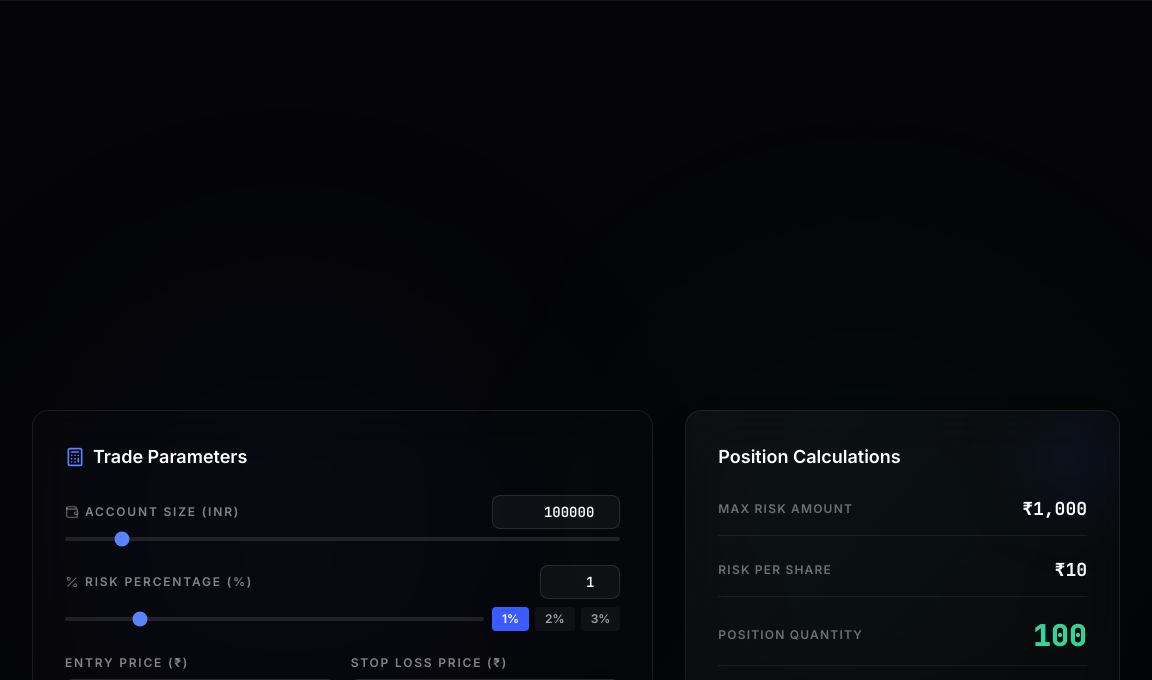
Scenario: RiskCalculator Component › updates calculations dynamically when inputs change
Replace the text in the number field labelled "Account Size (INR)" with "200000". click: [556, 512]
box: [492,495,620,529]
(page scrolled)
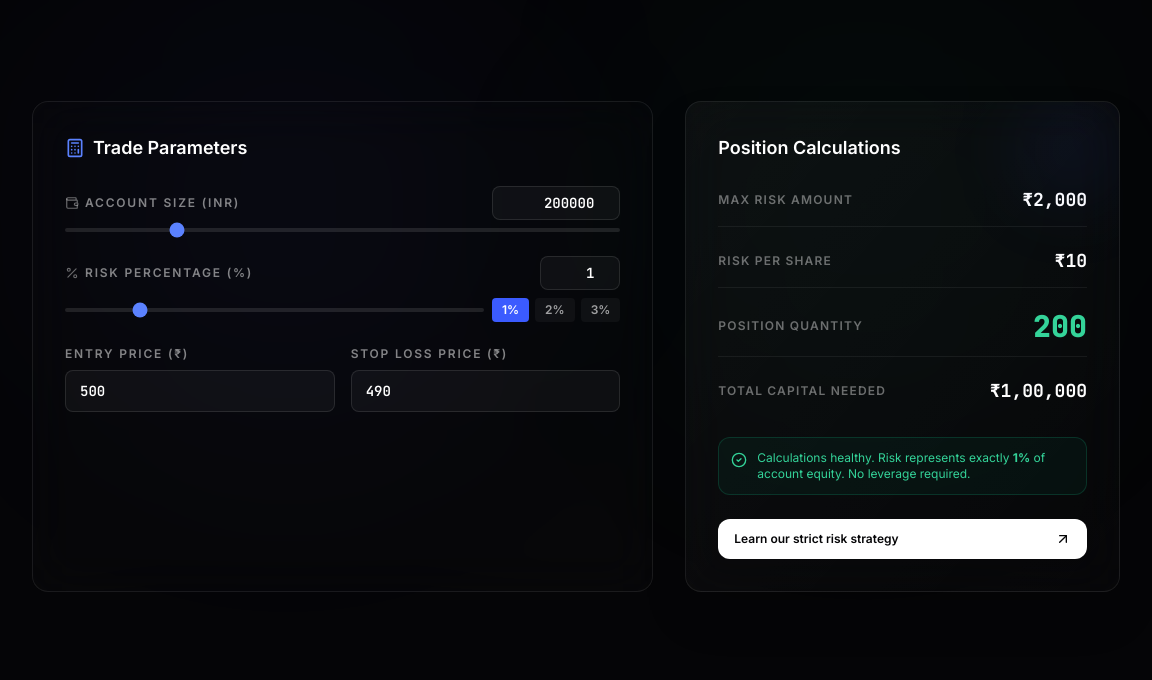
Replace the text in the number field labelled "Entry Price (₹)" with "1000". click: [200, 391]
box: [65,370,335,412]
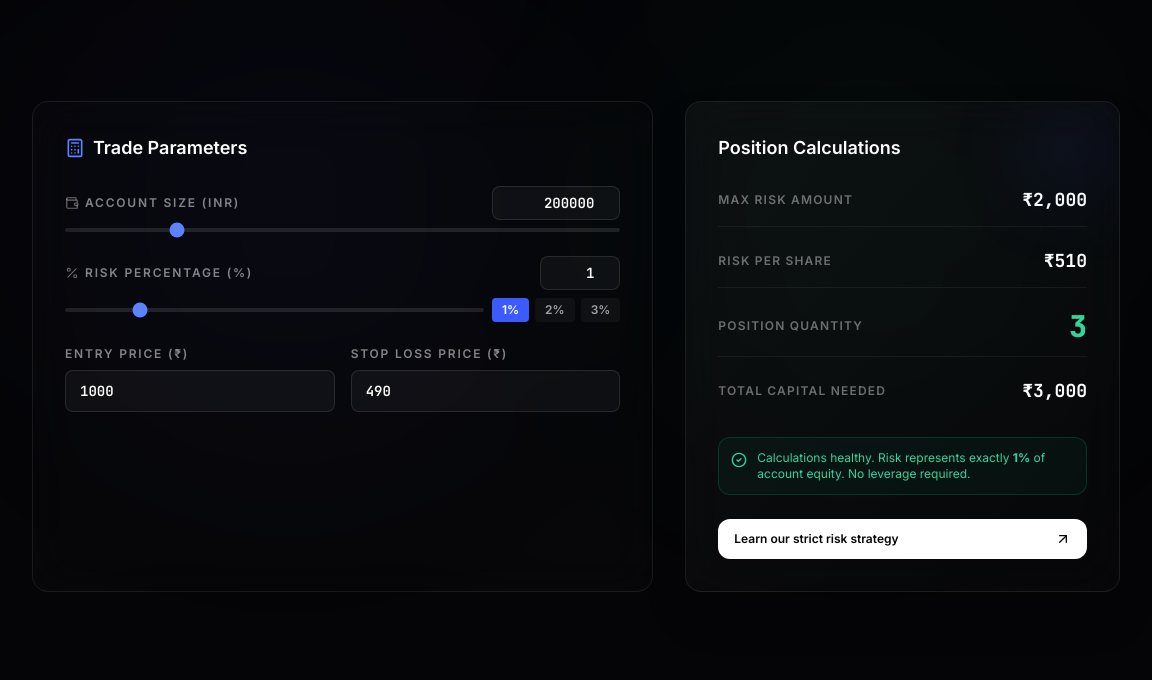
Replace the text in the number field labelled "Stop Loss Price (₹)" with "950". click: [486, 391]
box: [351,370,620,412]
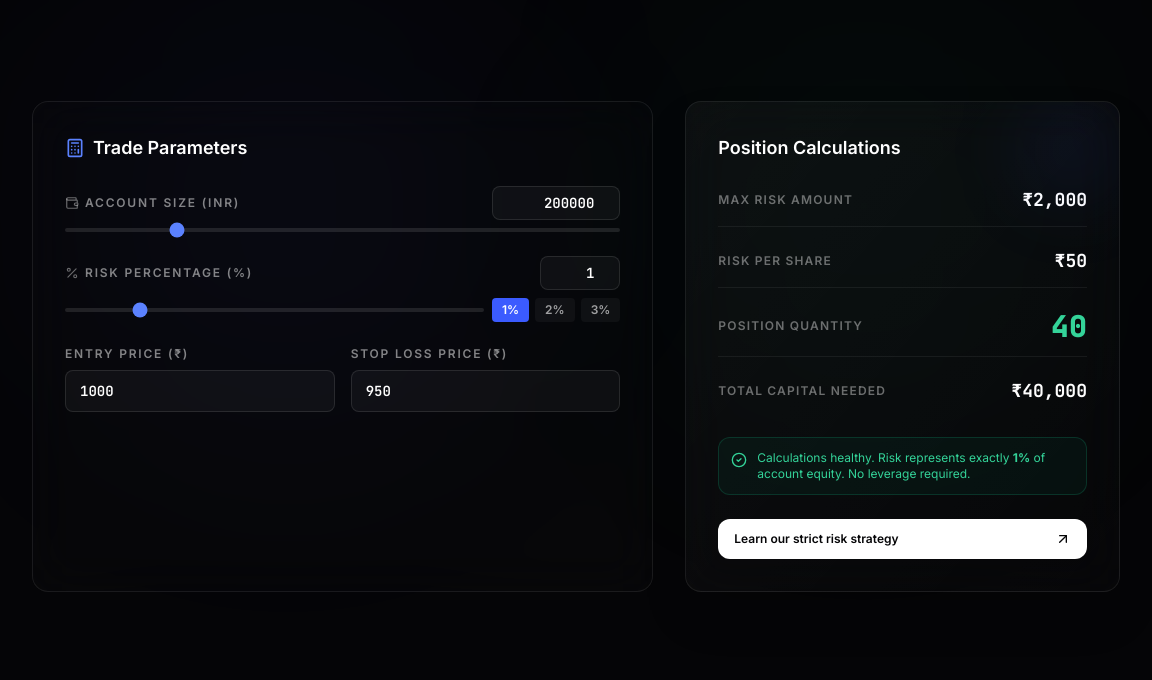
Check: the text "₹2,000" is shown, box [1022,186,1087,214]
Check: the text "₹50" is shown, box [1054,247,1087,275]
Check: the text "₹40,000" is shown, box [1011,377,1087,405]
